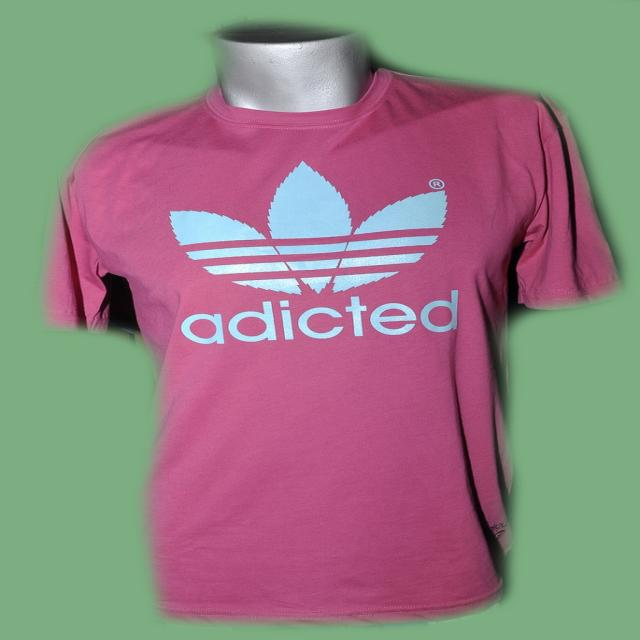adidas: (162, 161, 455, 299)
